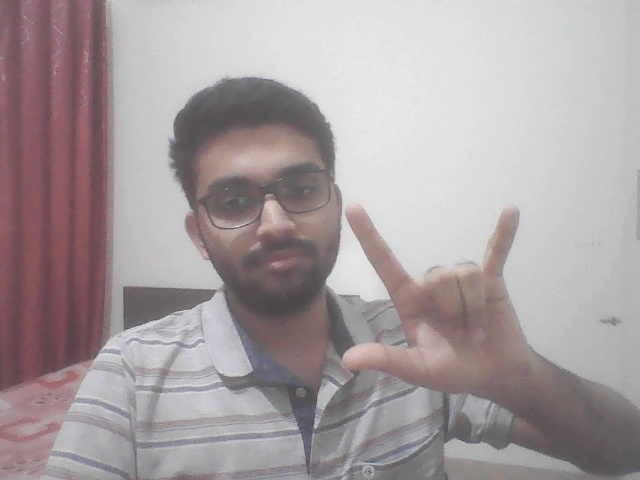iloveyou: (326, 193, 543, 404)
